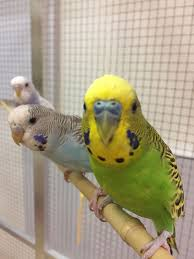budgie: (81, 74, 187, 255), (7, 102, 84, 181), (8, 74, 53, 105)
